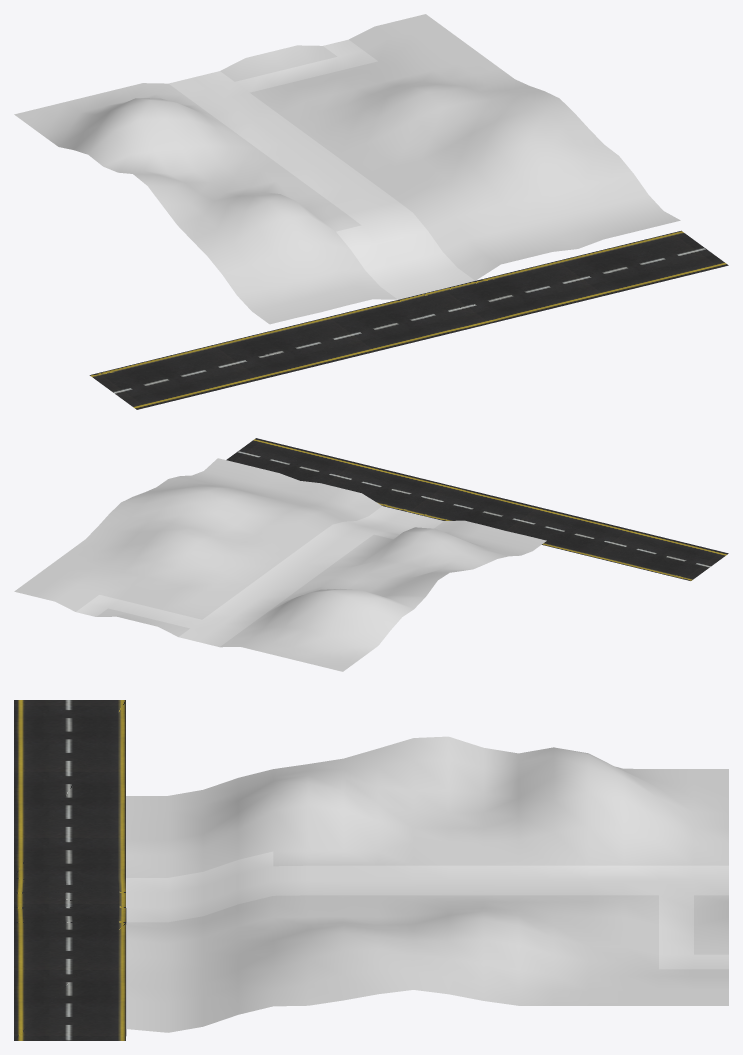
Rendered from exteriorterrain.gltf.
3 views of the same model, one above another, from view 1: azimuth 30°, elevation 25°; view 2: azimuth 150°, elevation 25°; view 3: azimuth 270°, elevation 25° (orthographic). The views are drawn at different scales.
Visible parts, largest first — view 1: Plane; view 2: Plane; view 3: Plane.
Boxes of the visible parts, x1,y1,x2,y2 form: Plane: (14,14,728,409); Plane: (14,438,728,671); Plane: (14,700,728,1040).
Bounding box in the file's own units: 57.5 × 6.36 × 51.
Materials: 3 (1 with a texture image).
